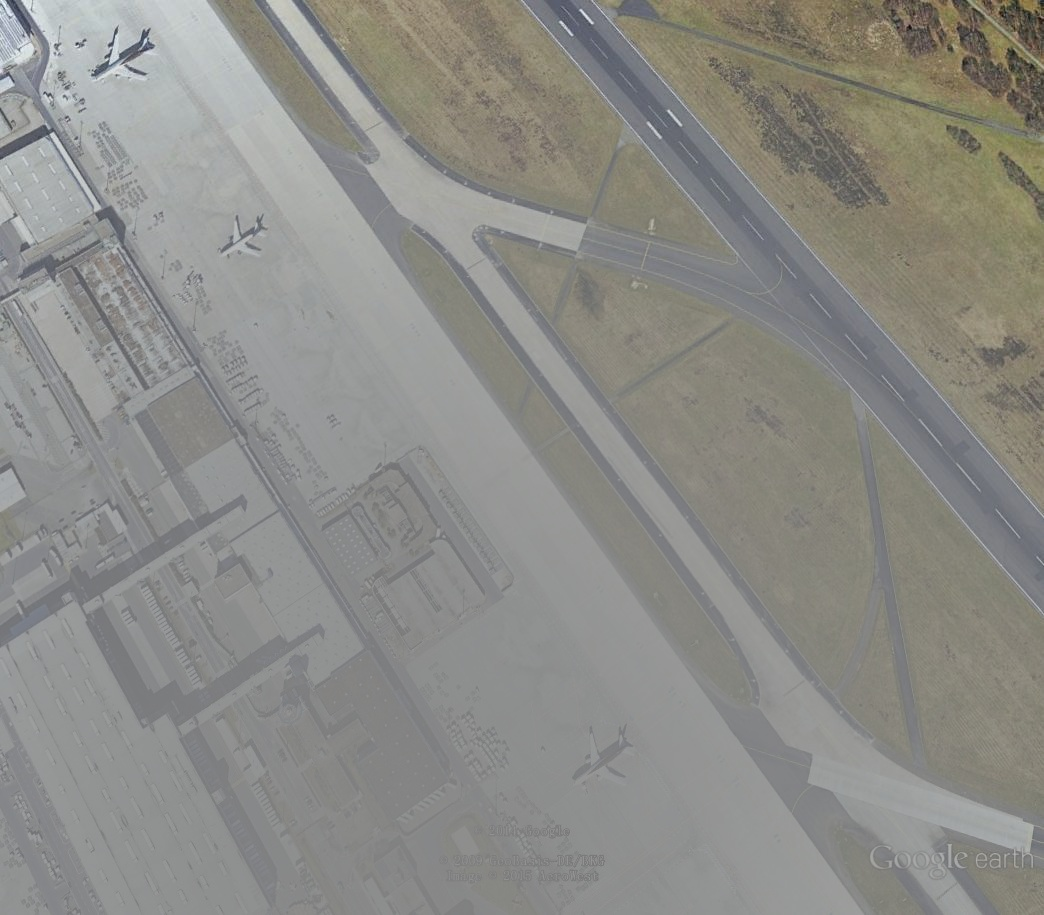aircraft: (88, 24, 162, 85), (569, 727, 640, 789), (218, 214, 272, 261)
